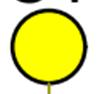yellow_circle: (9, 7, 92, 88)
